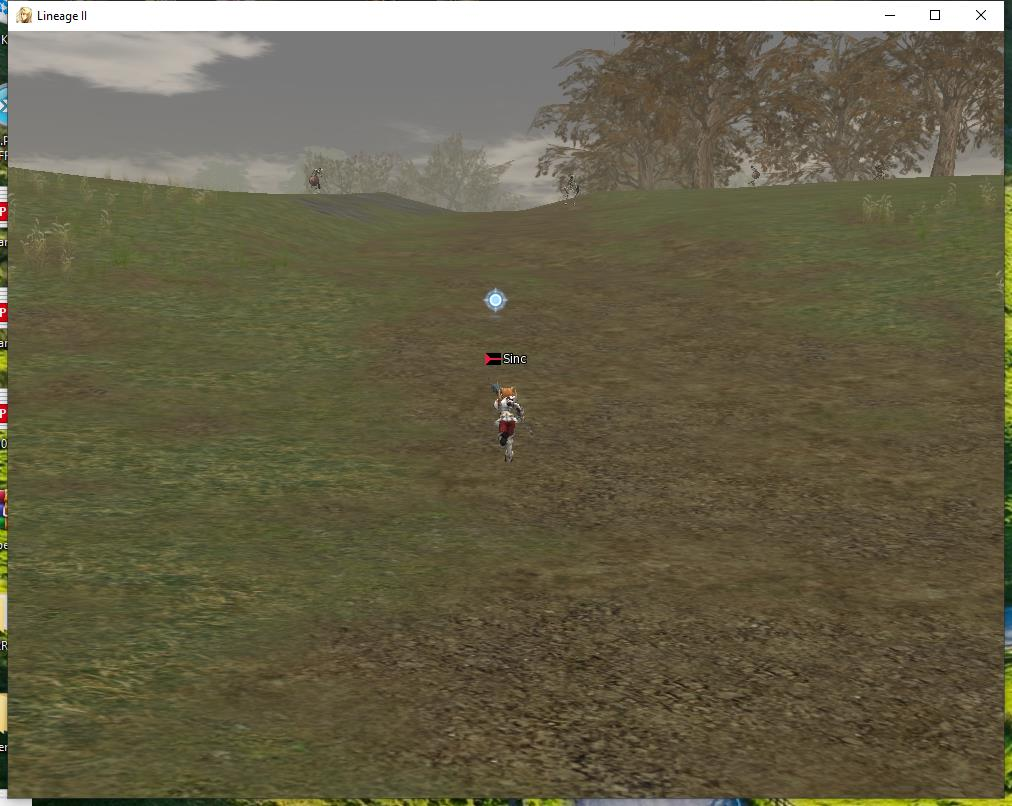monster: (303, 157, 321, 199)
